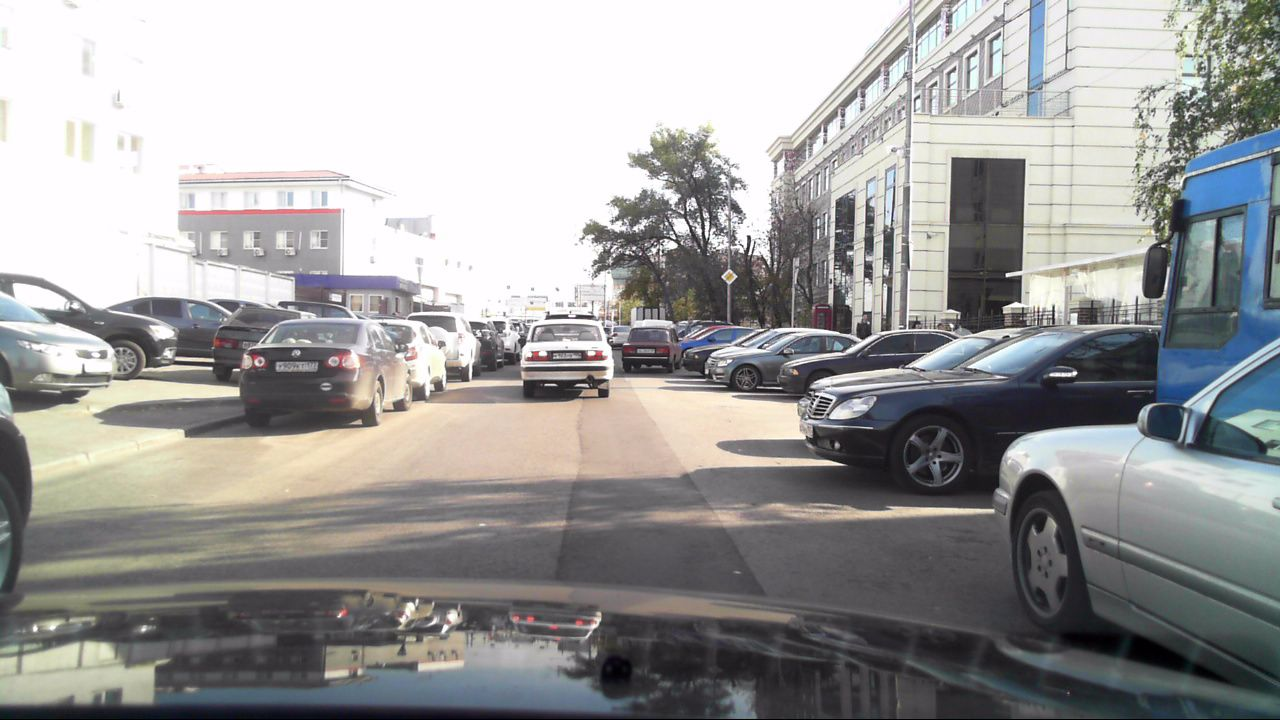main road: (720, 267, 740, 287)
